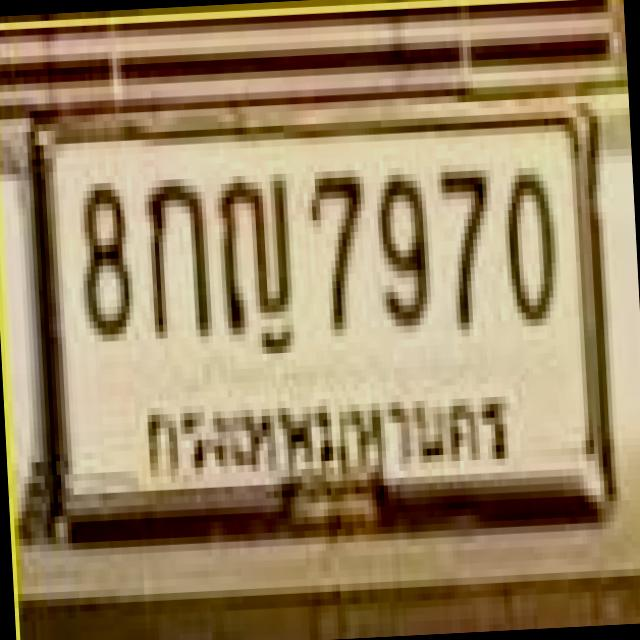license_plate: (25, 69, 618, 545)
